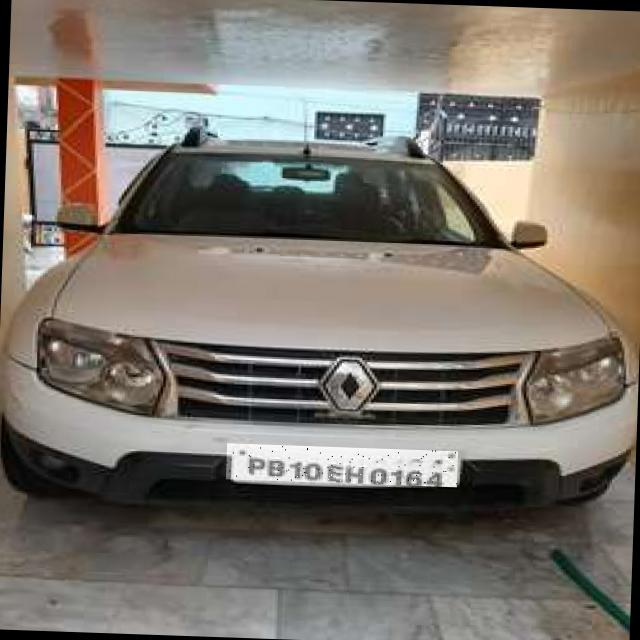Plate: (227, 444, 459, 488)
